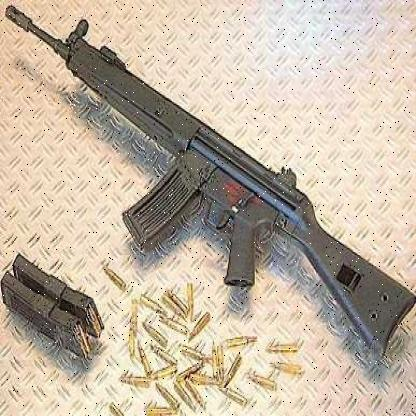rifle: (6, 3, 415, 367)
